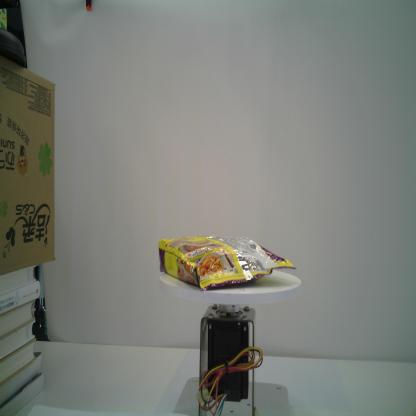Instant Noodles: (156, 232, 299, 290)
